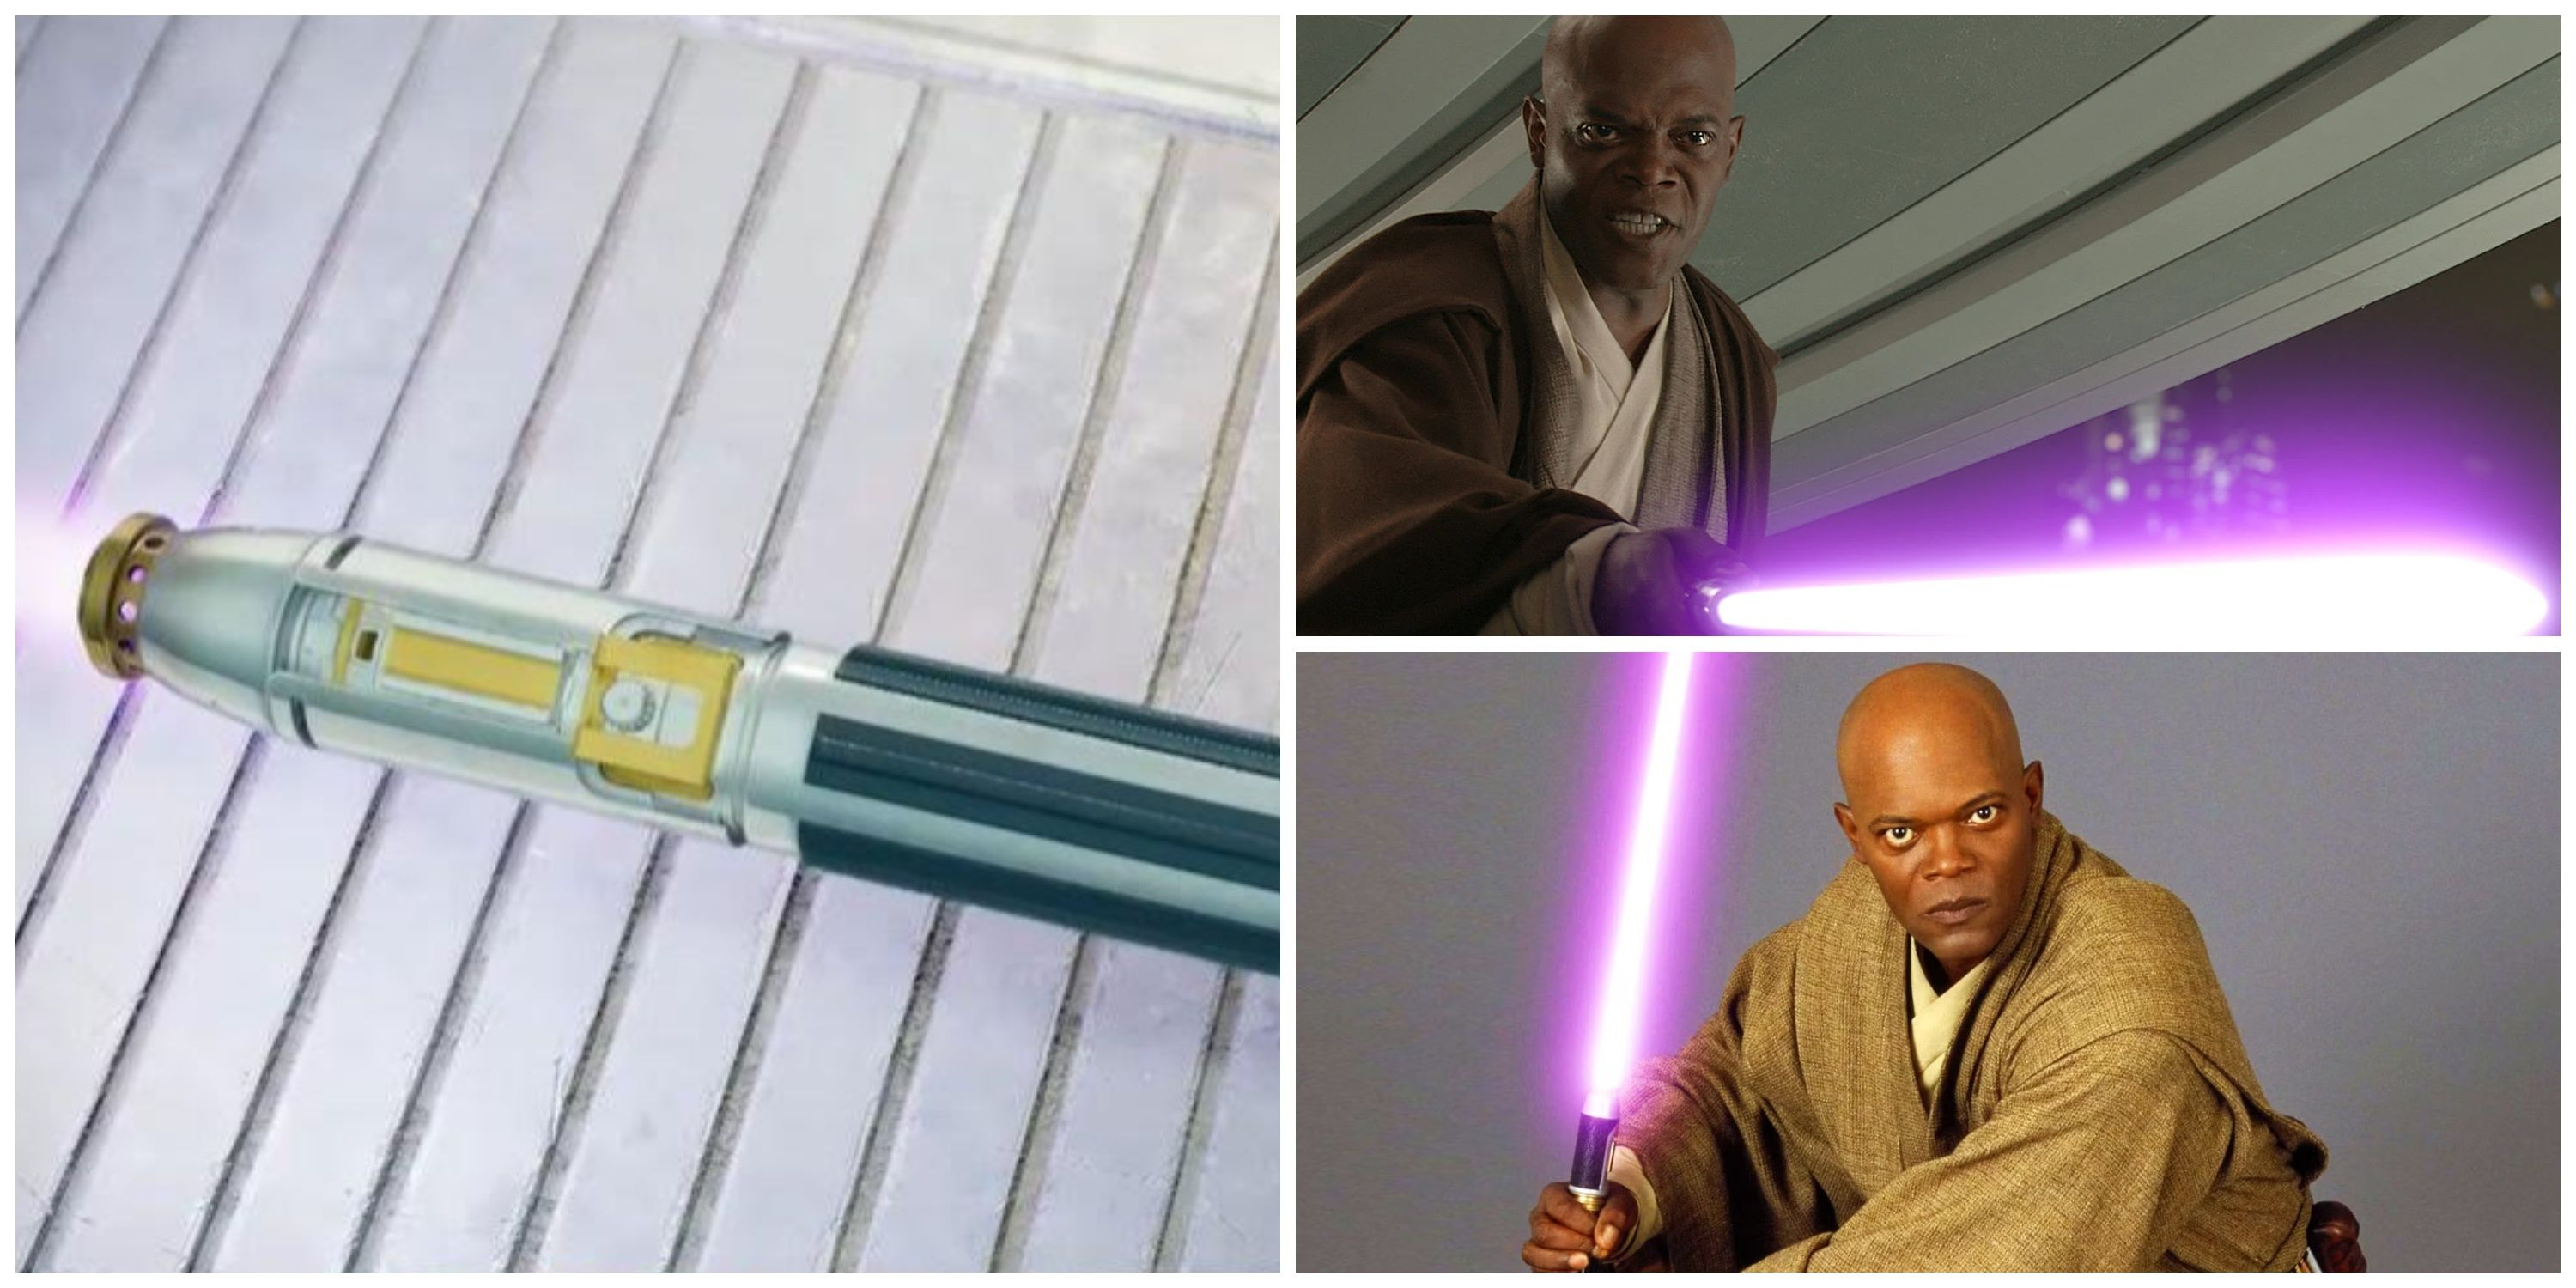lightsaber: (0, 425, 1272, 1030), (1511, 651, 1725, 1216), (1628, 527, 2576, 651)
